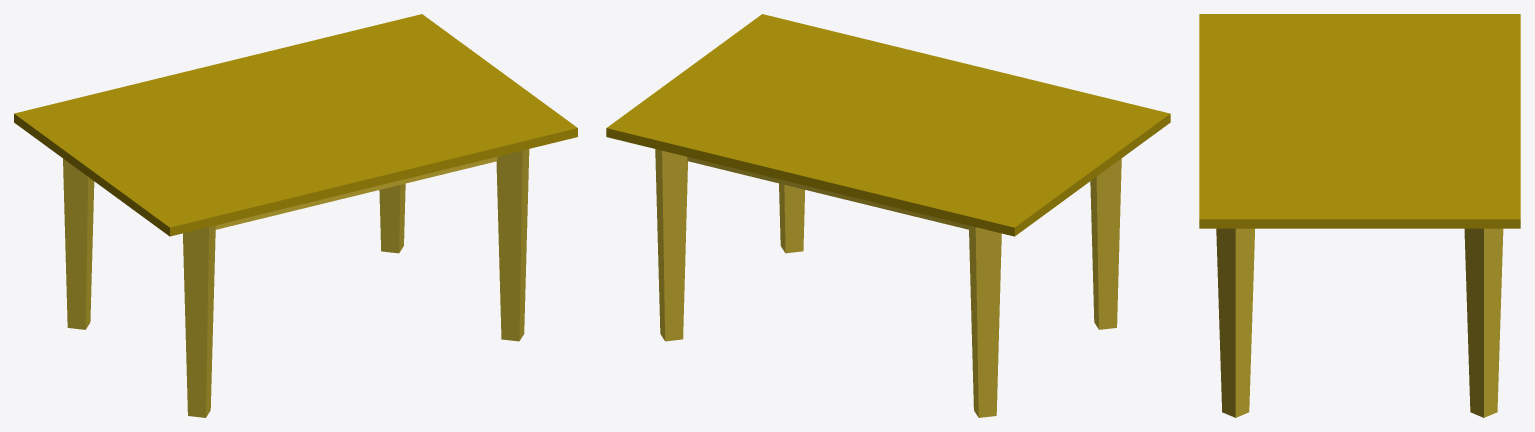
File: table.fbx
3 renders of one model, left to right at view 1: azimuth 30°, elevation 25°; view 2: azimuth 150°, elevation 25°; view 3: azimuth 270°, elevation 25°, orthographic. The views are drawn at different scales.
Parts seen in each view (by area): view 1: pCube2, pCylinder12, pCylinder15, pCylinder14, pCylinder13, pCube6; view 2: pCube2, pCylinder14, pCylinder13, pCylinder15, pCylinder12, pCube5; view 3: pCube2, pCylinder12, pCylinder13.
Part boxes in pixels (x1=…): pCube2: x1=14, y1=14, x2=577, y2=236; pCylinder12: x1=496, y1=149, x2=529, y2=341; pCylinder15: x1=183, y1=225, x2=215, y2=417; pCylinder14: x1=63, y1=158, x2=94, y2=329; pCylinder13: x1=379, y1=183, x2=405, y2=253; pCube6: x1=215, y1=157, x2=497, y2=229; pCube2: x1=606, y1=14, x2=1170, y2=236; pCylinder14: x1=969, y1=225, x2=1001, y2=417; pCylinder13: x1=655, y1=149, x2=687, y2=341; pCylinder15: x1=1090, y1=158, x2=1121, y2=329; pCylinder12: x1=779, y1=183, x2=805, y2=253; pCube5: x1=687, y1=157, x2=968, y2=229; pCube2: x1=1199, y1=14, x2=1520, y2=228; pCylinder12: x1=1216, y1=228, x2=1254, y2=417; pCylinder13: x1=1464, y1=228, x2=1503, y2=417.
Size of the model in its own units: 5.72 by 2.81 by 3.79.
